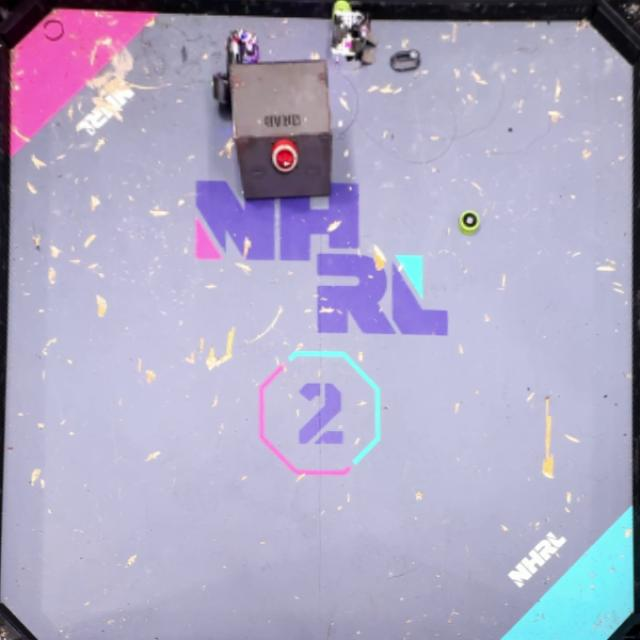housebot: (228, 59, 334, 202)
robot: (211, 27, 262, 121), (328, 0, 376, 64)
